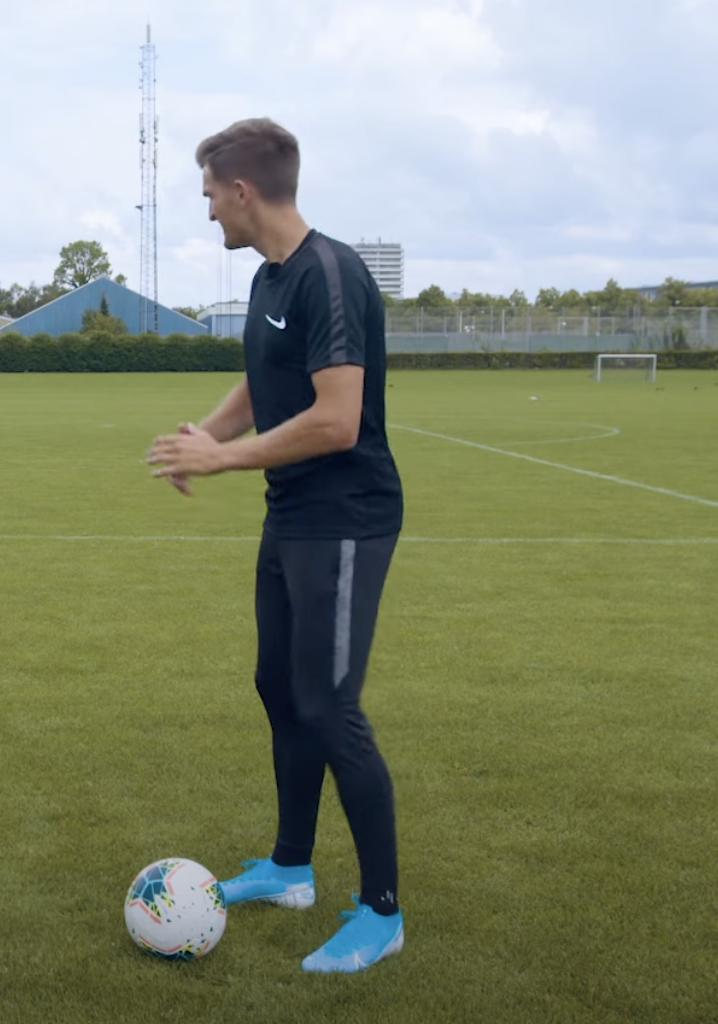ball: (125, 858, 226, 960)
foot: (302, 904, 409, 974), (219, 858, 317, 910)
person: (151, 114, 409, 976)
